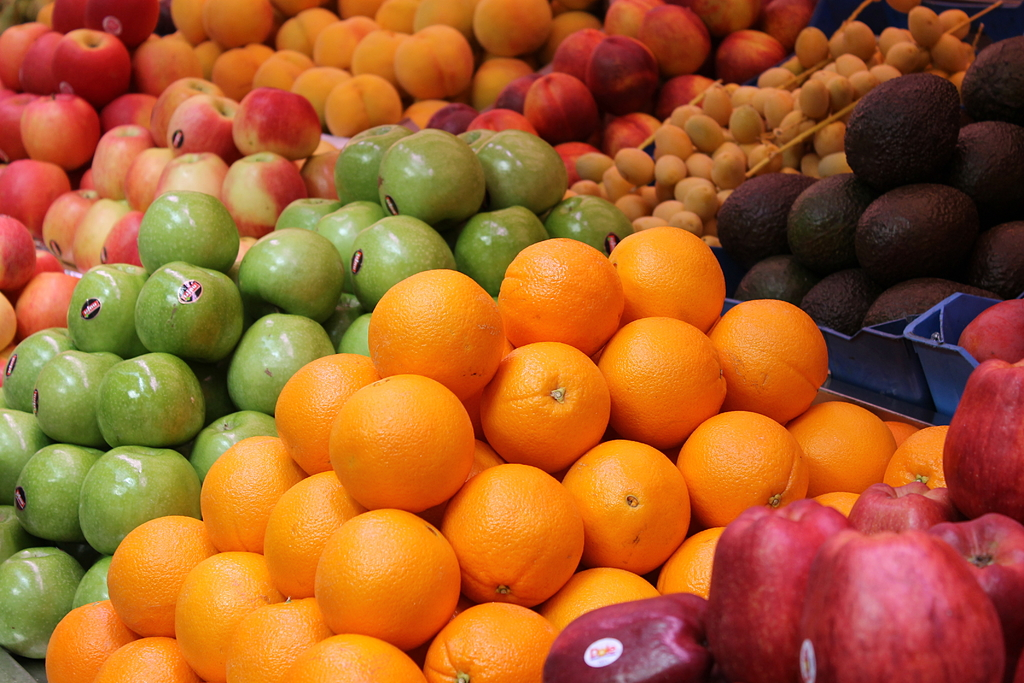Apple: (0, 0, 636, 661), (537, 354, 1023, 682), (126, 192, 229, 269)
